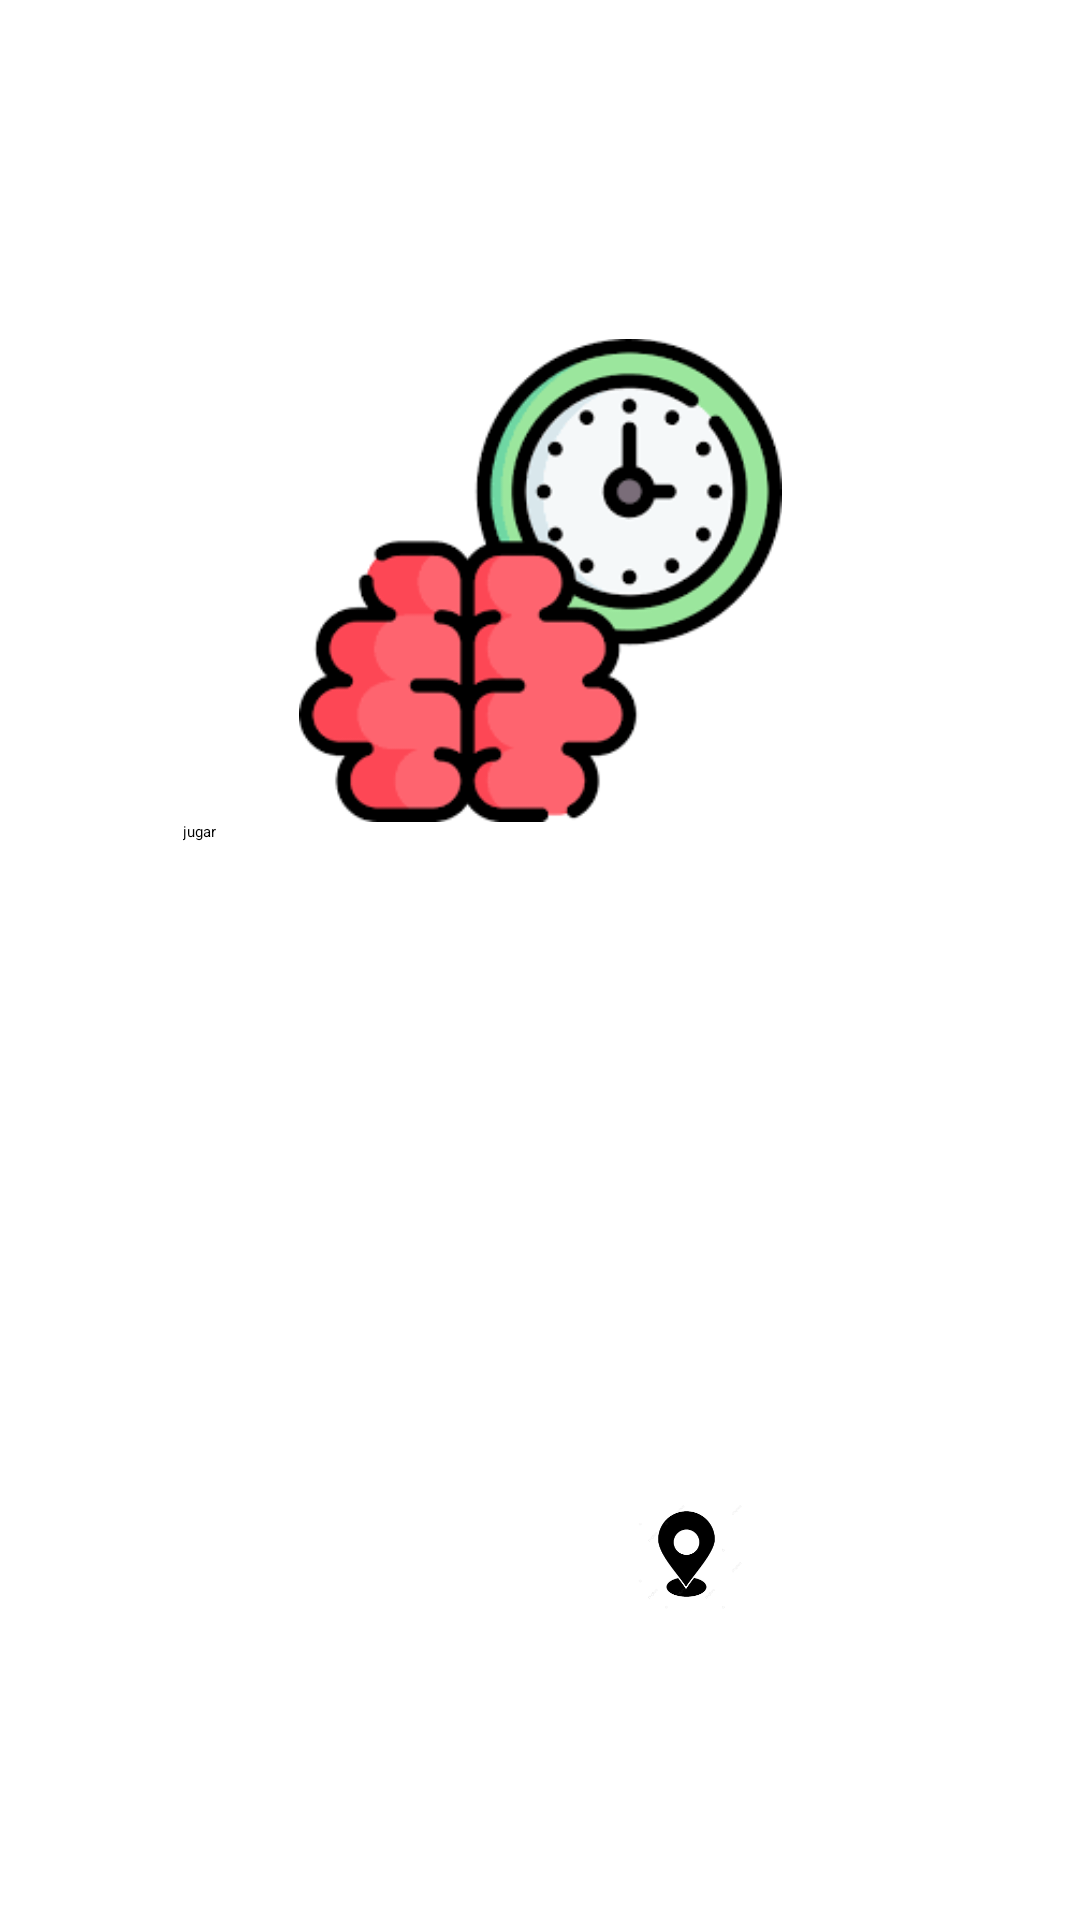

Named icons in this screenshot (1080w x 1920h) and their bounding boxes, bbox(x1, y1, x2, y2):
ubicacion: bbox(658, 1511, 715, 1597)
